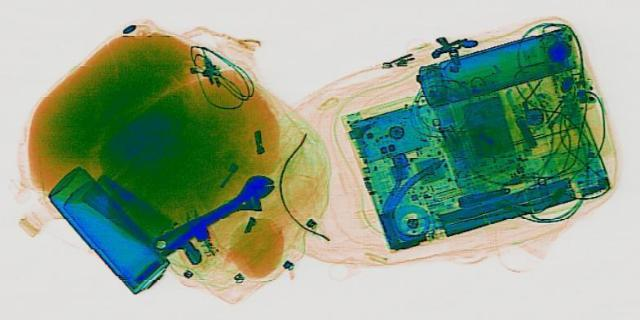Wrench: (135, 170, 291, 251)
